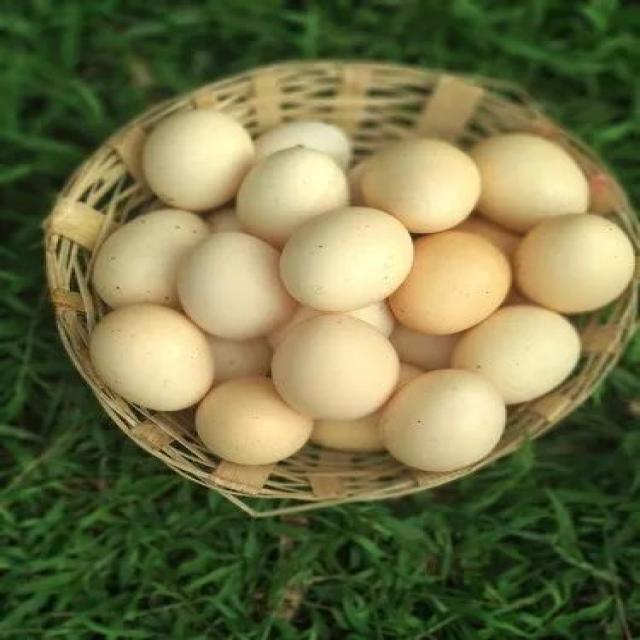Egg: (177, 206, 413, 339), (280, 206, 413, 311), (90, 304, 215, 411), (272, 314, 398, 419), (177, 231, 297, 339), (388, 231, 512, 335), (382, 369, 507, 471), (515, 214, 635, 313), (470, 134, 590, 232), (360, 139, 482, 233), (93, 210, 210, 308), (237, 146, 350, 246)
